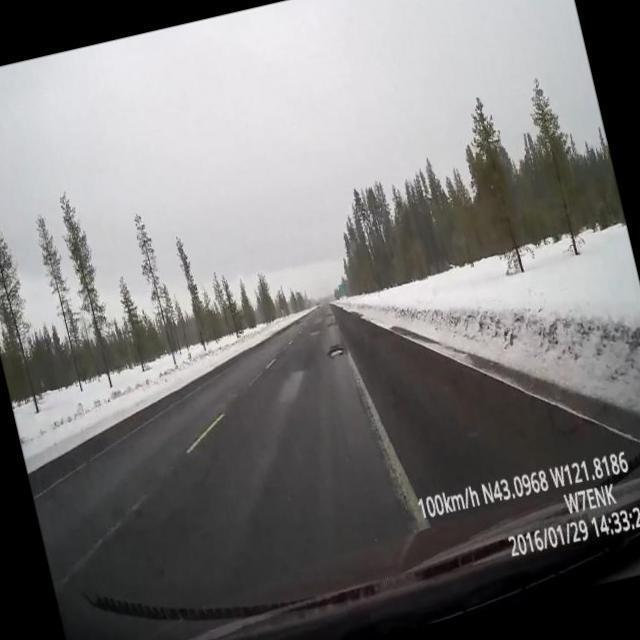Pothole: (329, 348, 343, 357)
